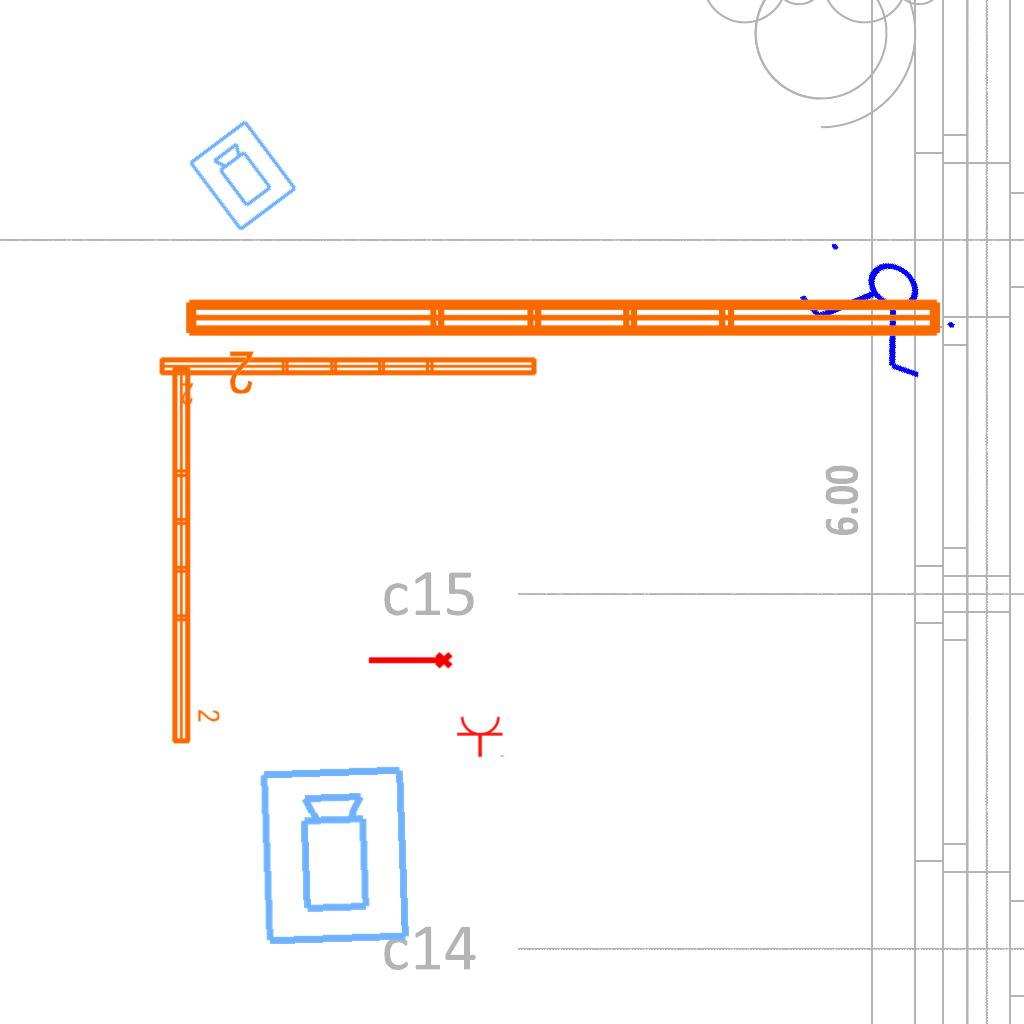ASR_Ansaugoeffnung: (366, 650, 454, 673)
Ambulanz_Pendelleuchte_LED: (177, 287, 951, 399), (155, 351, 542, 407), (166, 361, 222, 748)
KFO_Kamera_mit_Festobjektiv: (255, 762, 417, 950), (185, 115, 302, 236)
Schukosteckdose_einfach: (456, 715, 506, 758)
Serienschalter: (783, 221, 977, 395)
